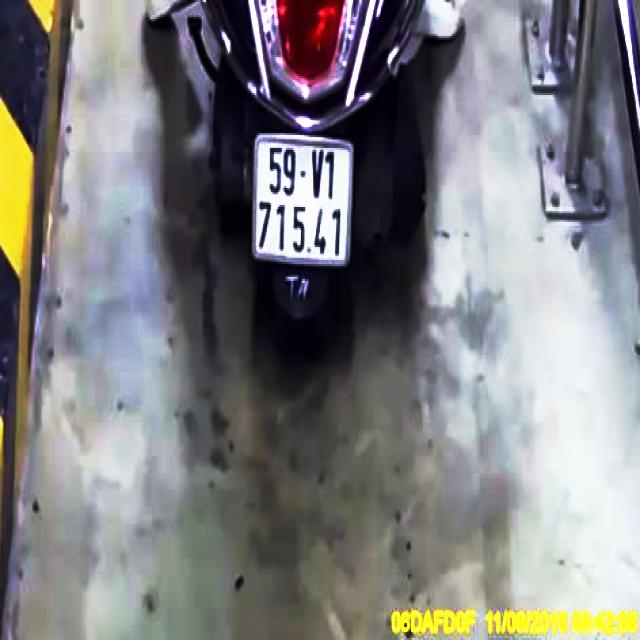license_plate: (255, 139, 353, 265)
